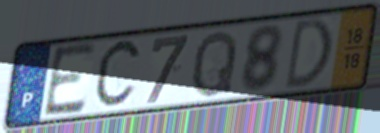7: (144, 32, 192, 105)
8: (239, 22, 285, 95)
C: (91, 35, 144, 115)
D: (282, 15, 335, 93)
E: (41, 38, 100, 121)
Q: (188, 27, 240, 101)
